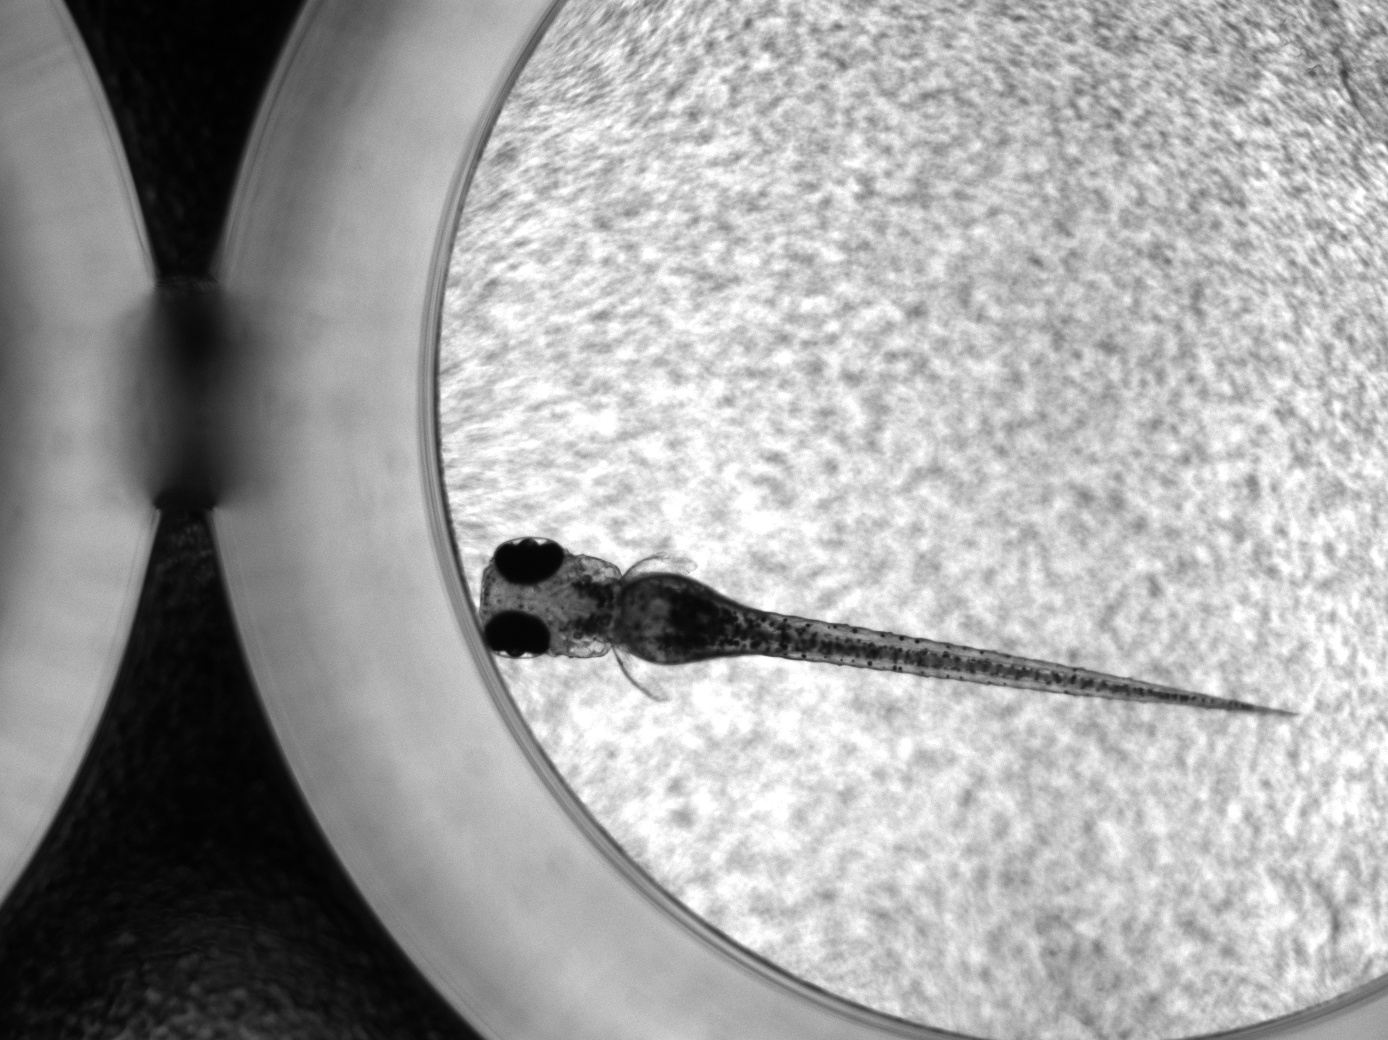embryo: (479, 537, 1301, 722)
eye: (493, 537, 563, 584), (485, 611, 550, 660)
yolksac: (622, 574, 729, 666)
